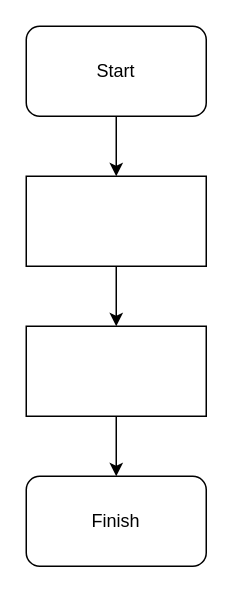
Some shapes in this 233 by 593 pixel diagram are drawn without their labels. The shapes that lost their labels are listed below. From the top down, each one's box as (x1, y1, x2, y2) in pixels, then its label:
(25, 175, 206, 266): Turn on Bluetooth
(25, 325, 206, 416): Wait for connection with other device
